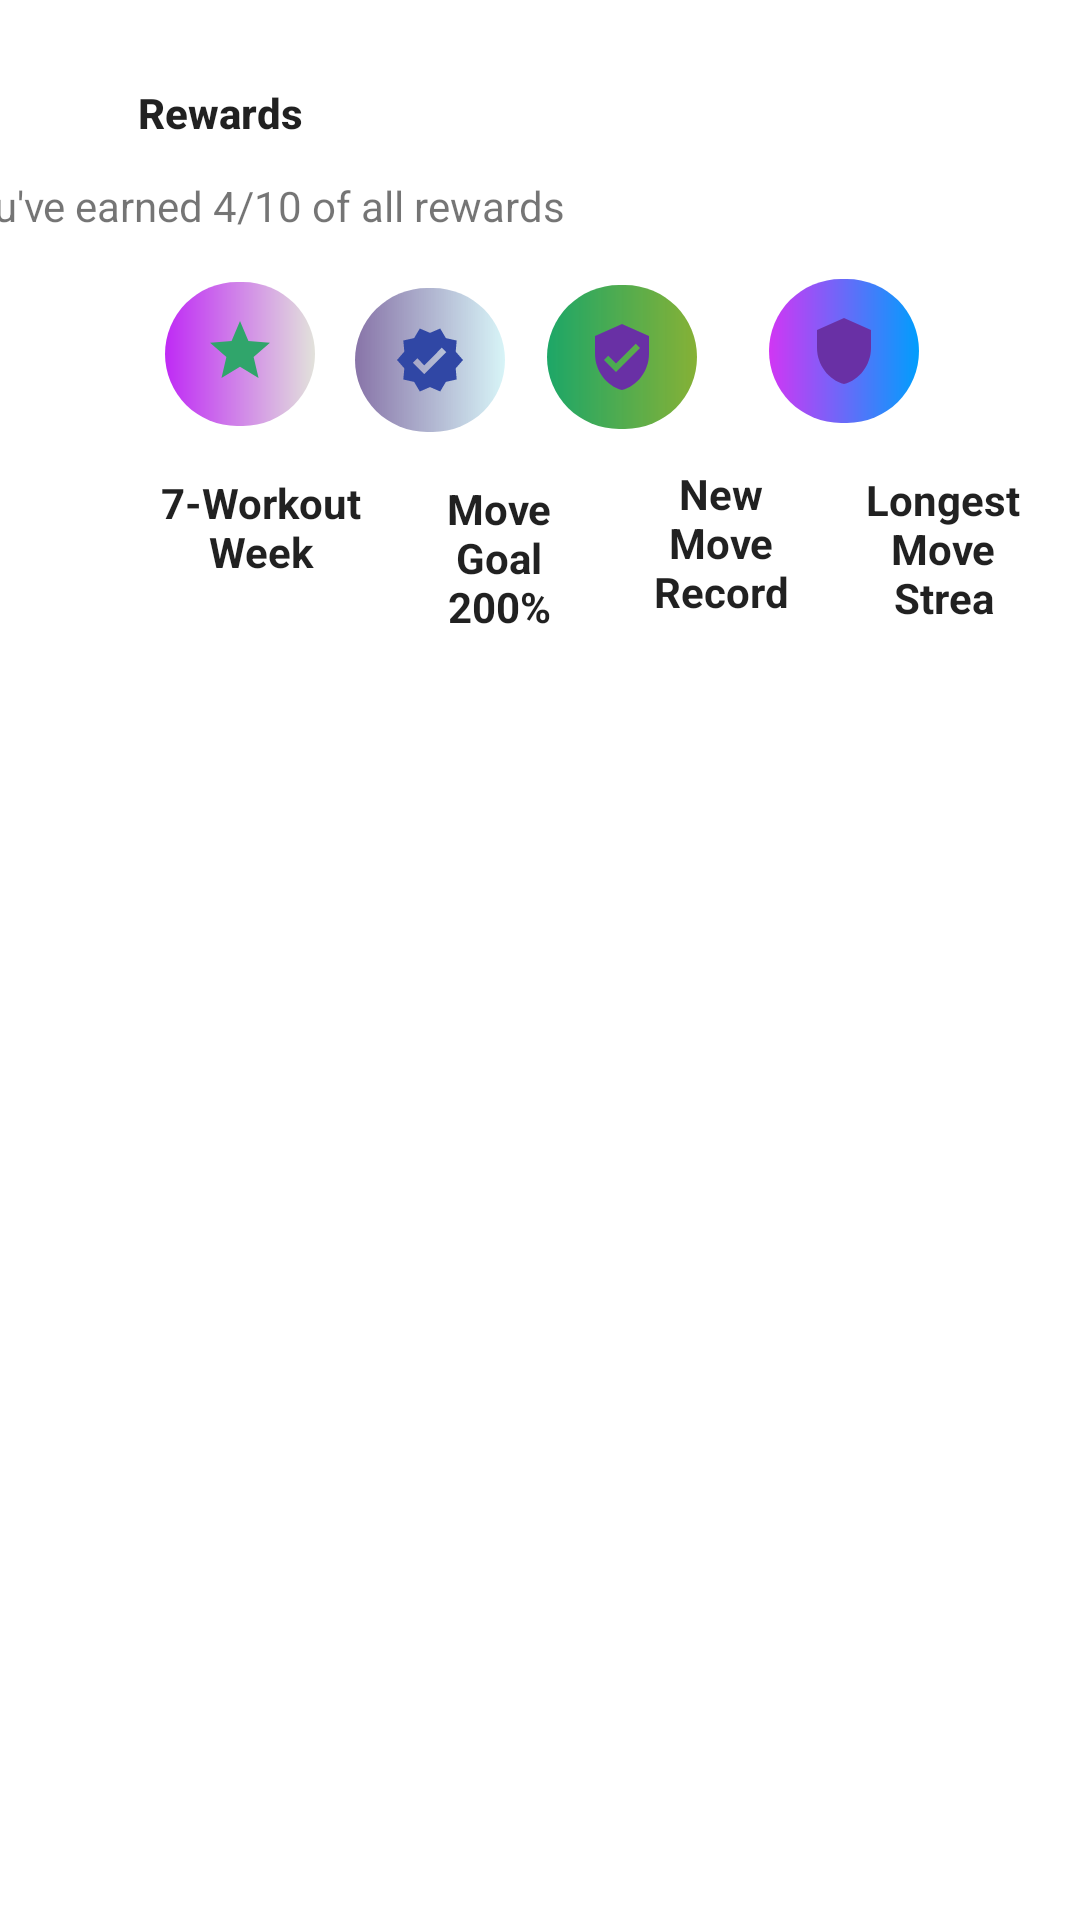

Screen size 1080 x 1920. Icon name, then its center in pixels as point (x, y):
grade: point (240, 351)
shield: point (844, 351)
verified: point (430, 360)
verified user: point (622, 357)
